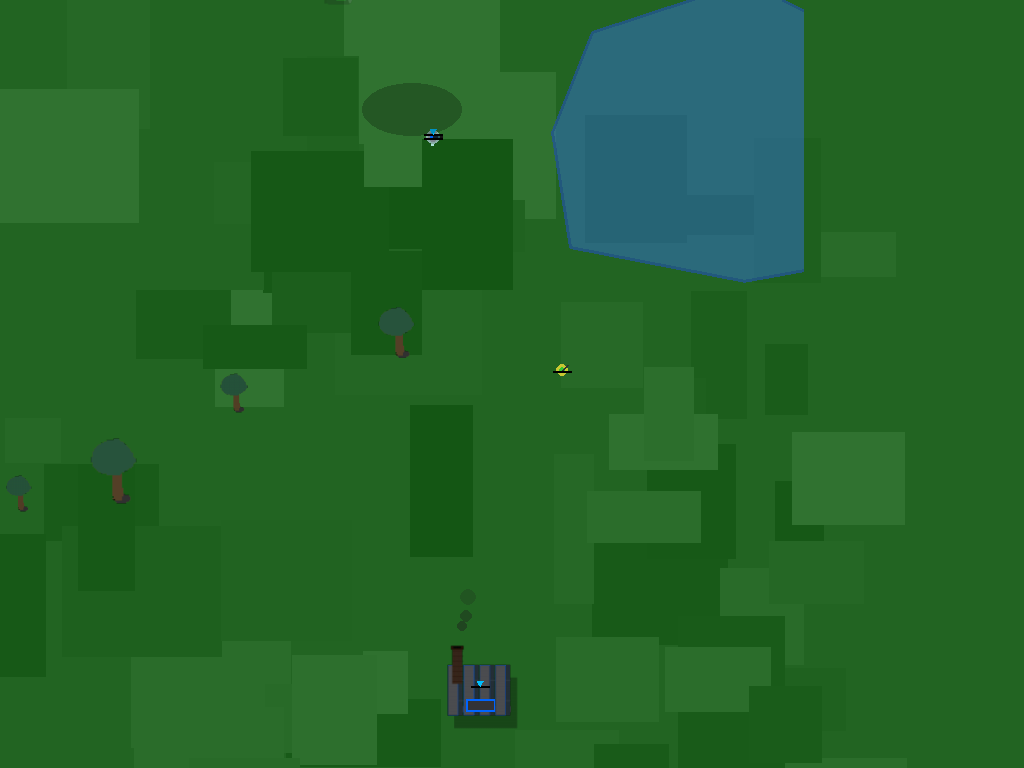CombatEngineer: (548, 356, 575, 383)
FactoryBuilding: (436, 640, 524, 728)
KirovAirship: (317, 14, 430, 127)
Lake: (552, 0, 804, 281)
Shotgunner: (419, 124, 446, 151)
